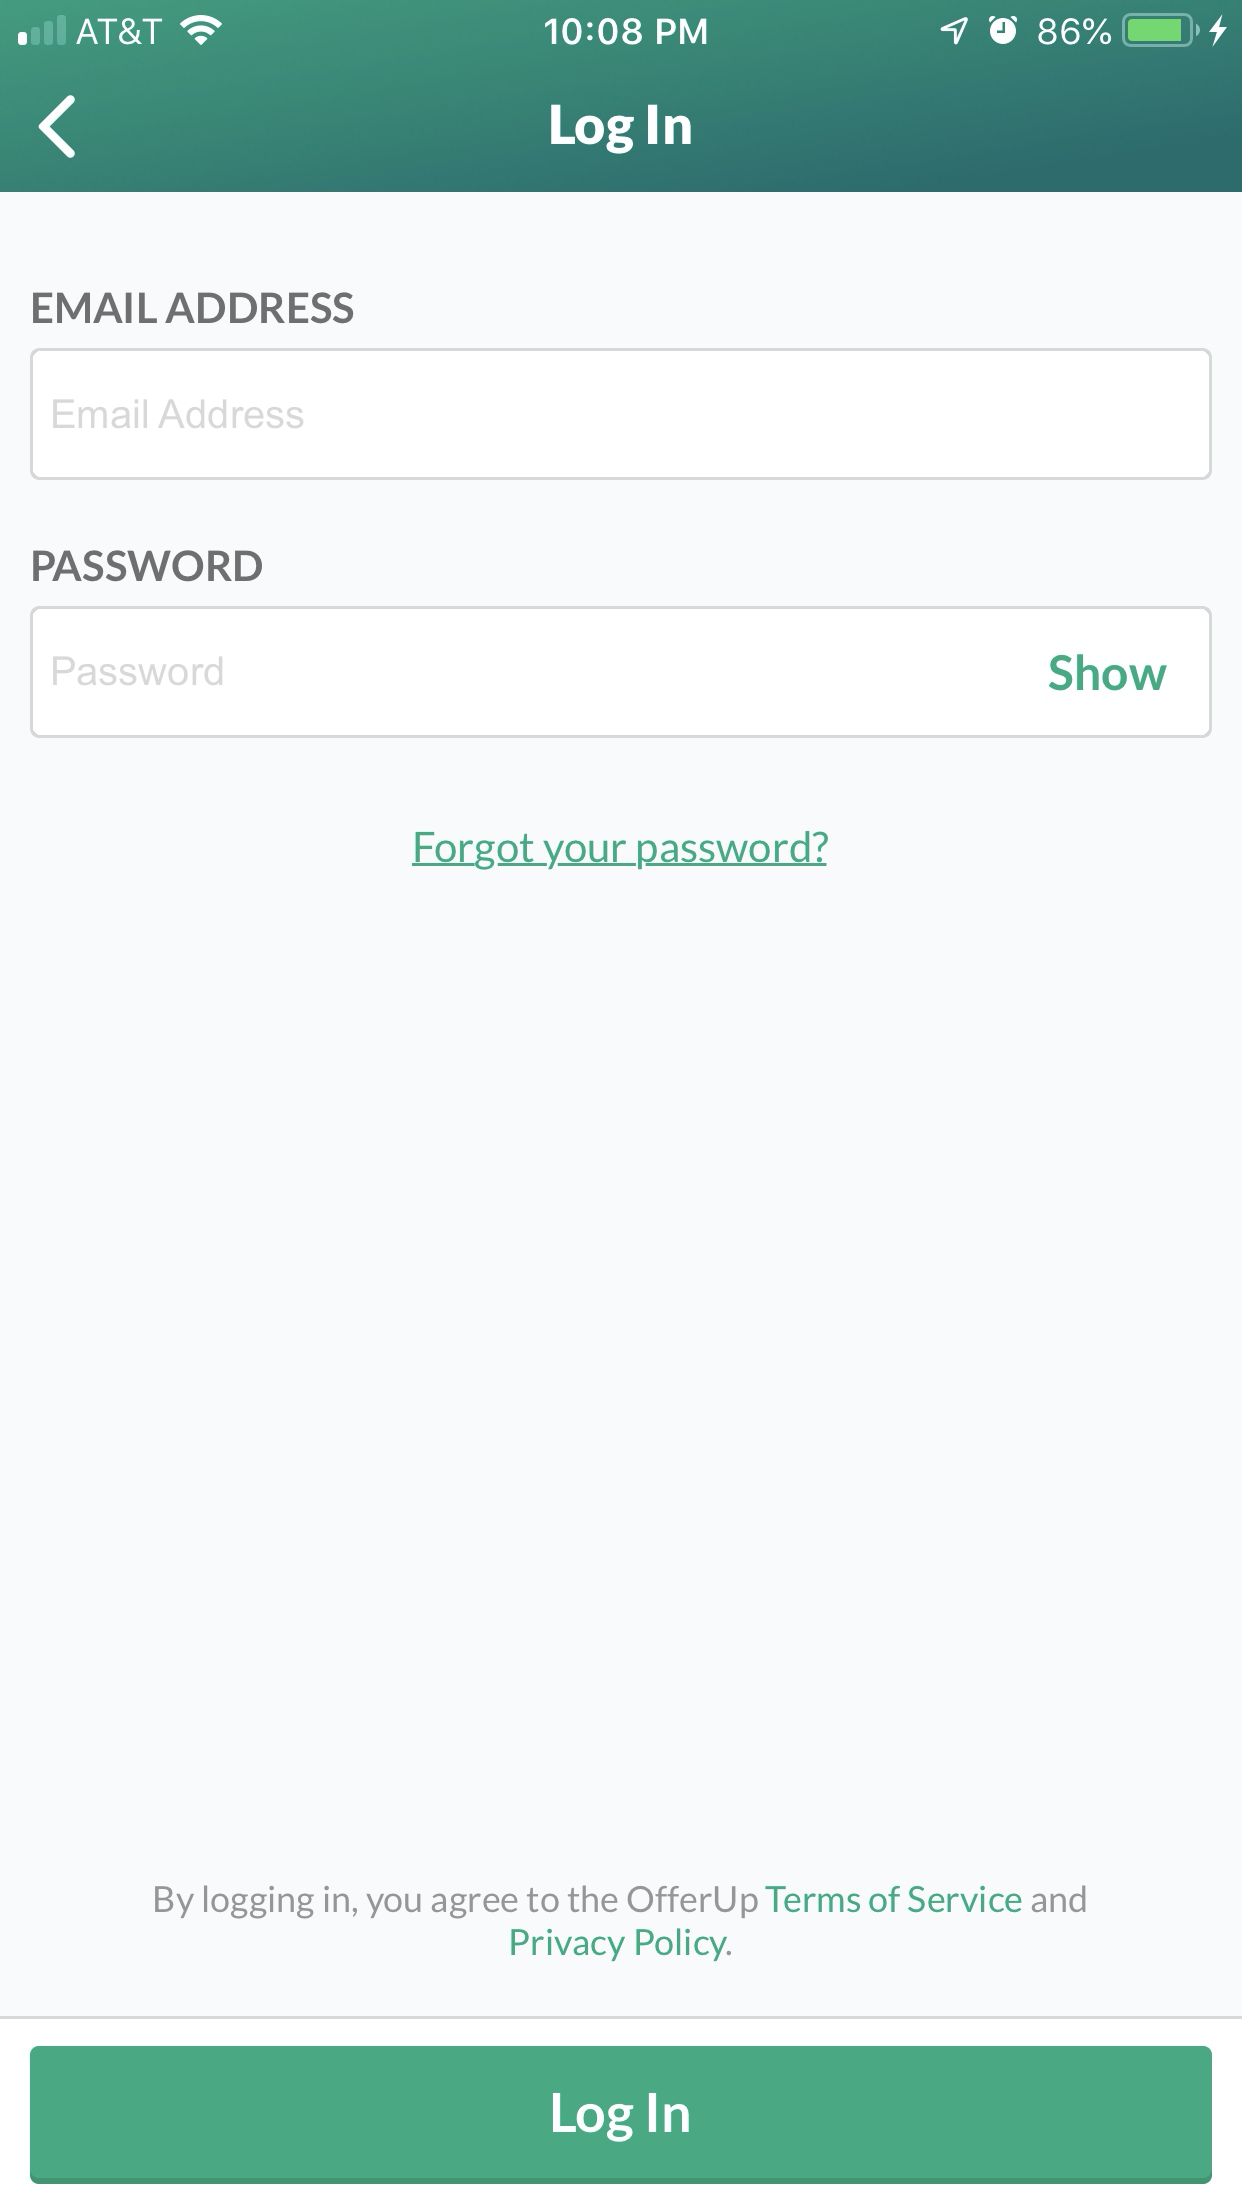EditText: (30, 347, 1213, 481), (30, 607, 1212, 739)
Icon: (38, 96, 77, 161)
Text: (155, 1883, 1087, 1962), (412, 831, 830, 872), (33, 293, 355, 325), (53, 399, 305, 431), (33, 550, 264, 582), (550, 105, 692, 156), (53, 657, 224, 687), (1049, 654, 1168, 692)
TextButton: (30, 2046, 1213, 2185)
UpperTaskBar: (2, 2, 1242, 49)
